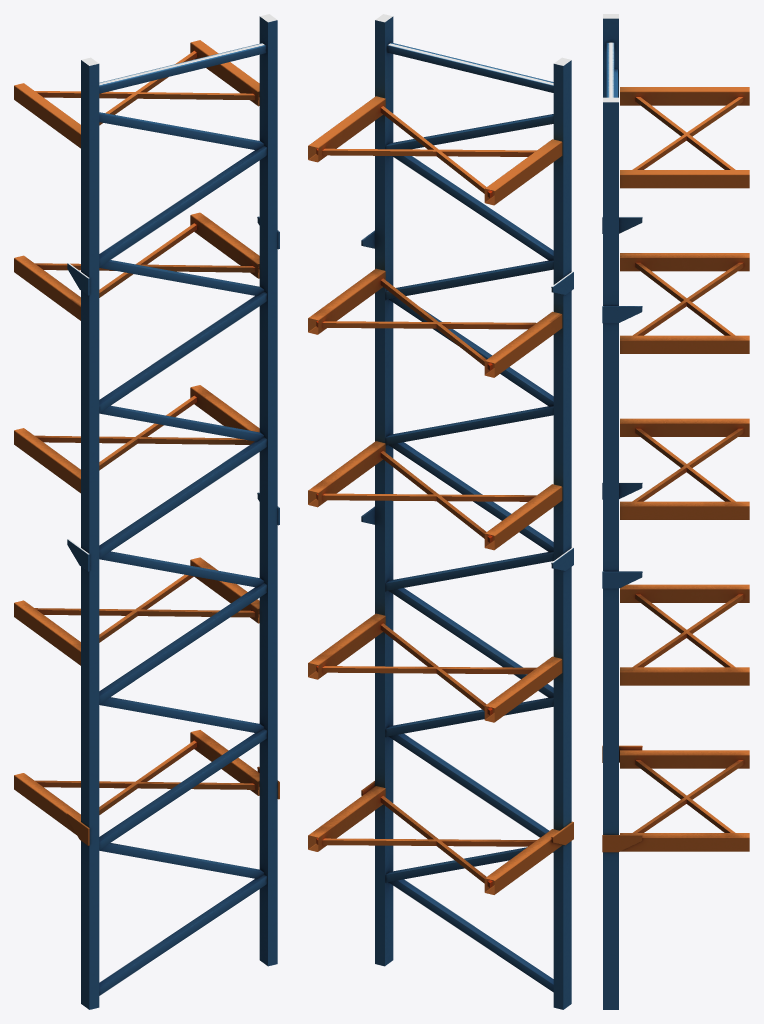
Rendered from shelves.serva.3341-2.obj.
3 renders of one model, left to right at view 1: azimuth 30°, elevation 25°; view 2: azimuth 150°, elevation 25°; view 3: azimuth 270°, elevation 25°, orthographic. The views are drawn at different scales.
Parts seen in each view (by area): view 1: ____05; view 2: ____05; view 3: ____05.
Part boxes in pixels (x1,y1,x2,y2): ____05: [14, 14, 279, 1009]; ____05: [308, 14, 573, 1009]; ____05: [602, 14, 749, 1009].
Bounding box in the file's own units: 145 × 680 × 100.
